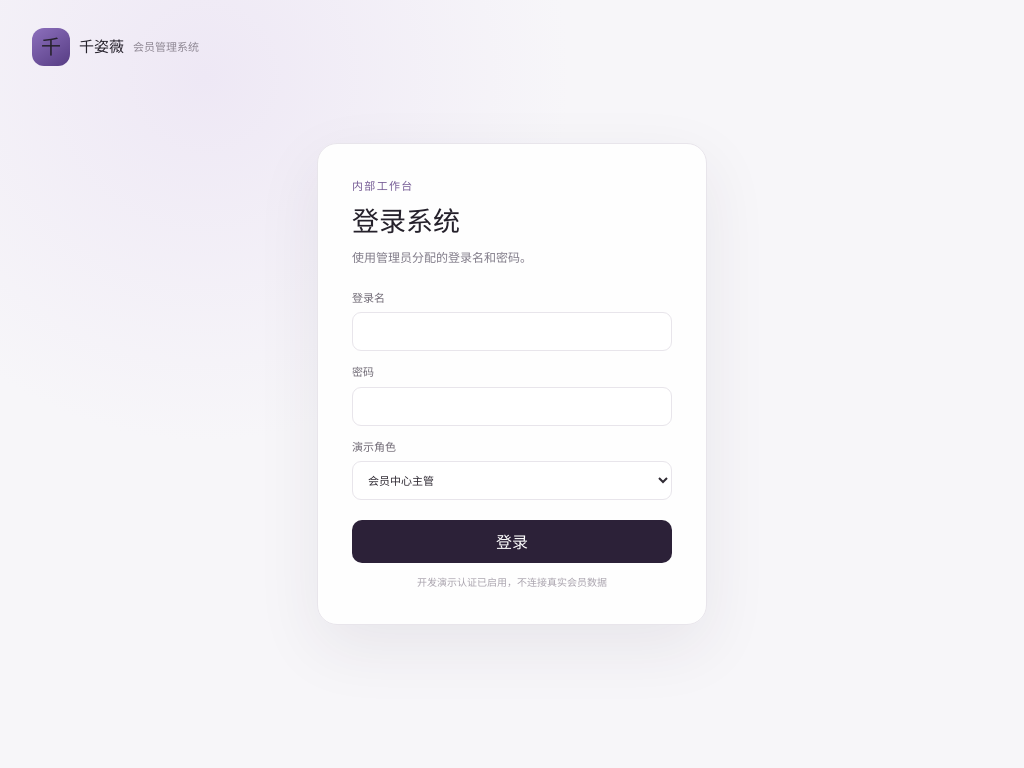
Test case: Dashboard › filters the member list by creation time
The width and height of the screenshot is (1024, 768).
Type "002" into the field labelled "登录名". click: (512, 332)
box: [352,312,672,351]
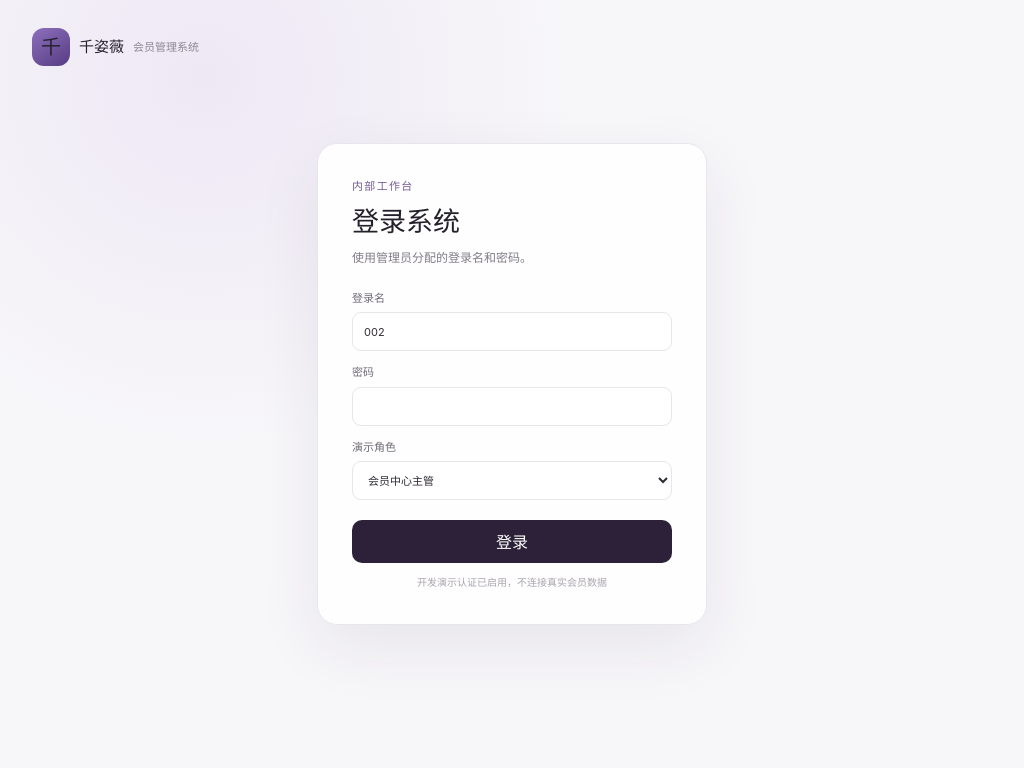
Type "Demo123!" into the password field labelled "密码". click: (512, 406)
box: [352,387,672,426]
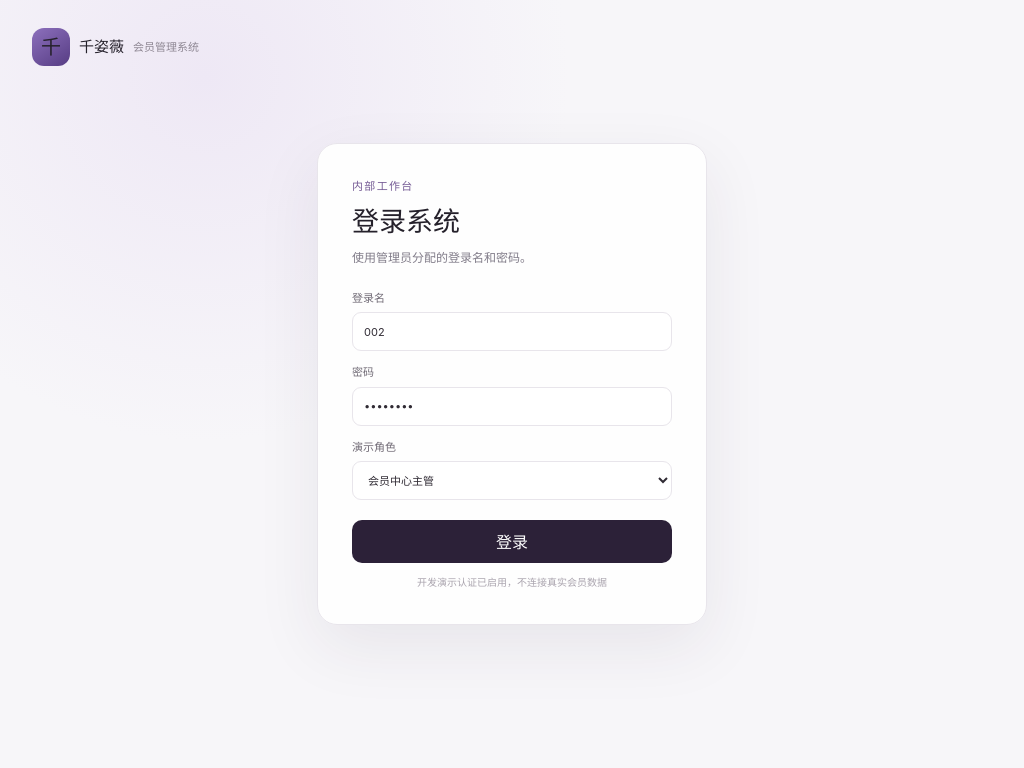
Select "管理层" in the dropdown labelled "演示角色". click: (512, 481)
box: [352,461,672,500]
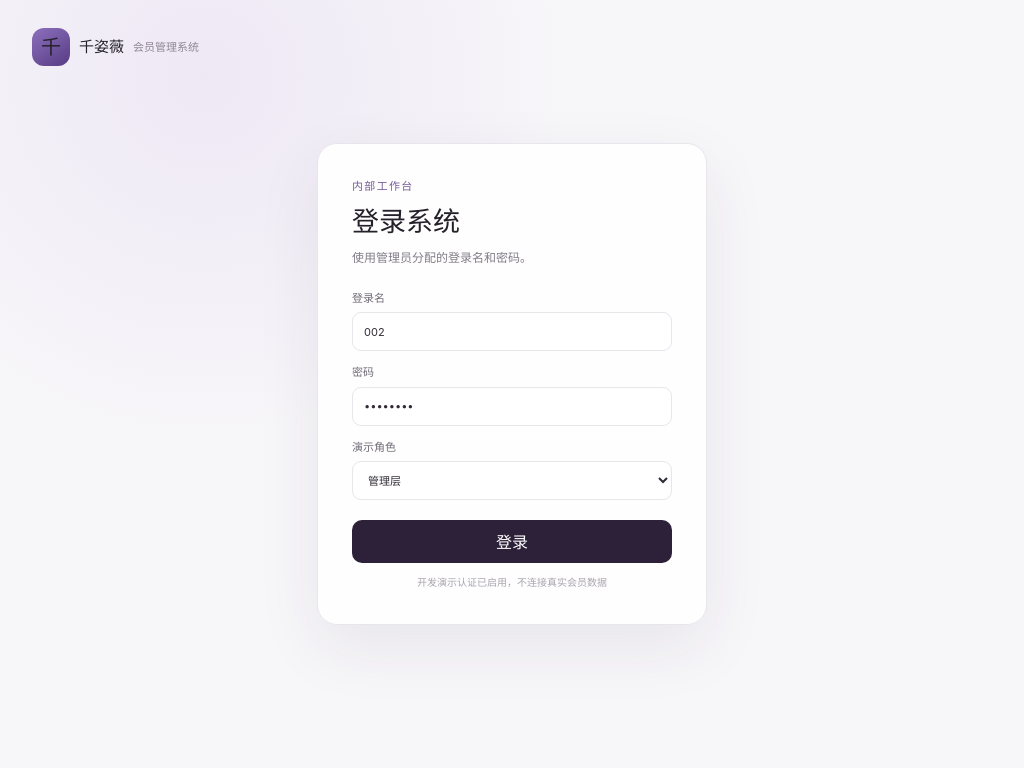
Click the button "登录". click: (512, 542)
box: [352,520,672,563]
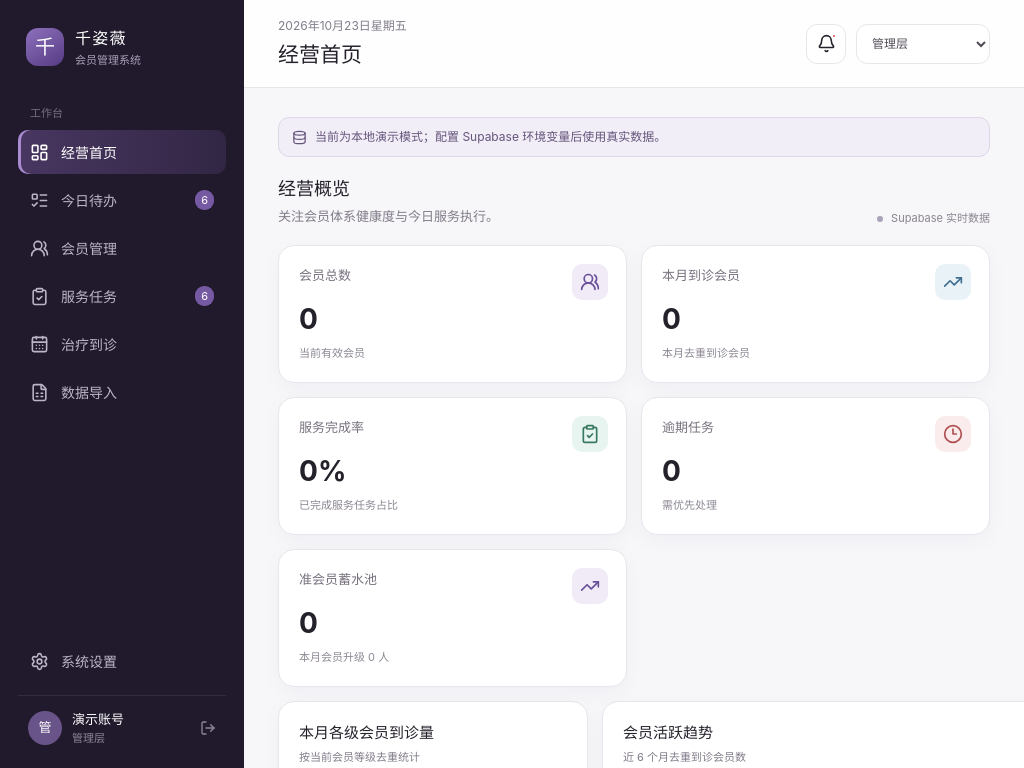
Click the button "会员管理". click: (122, 248)
box: [18,226,226,270]
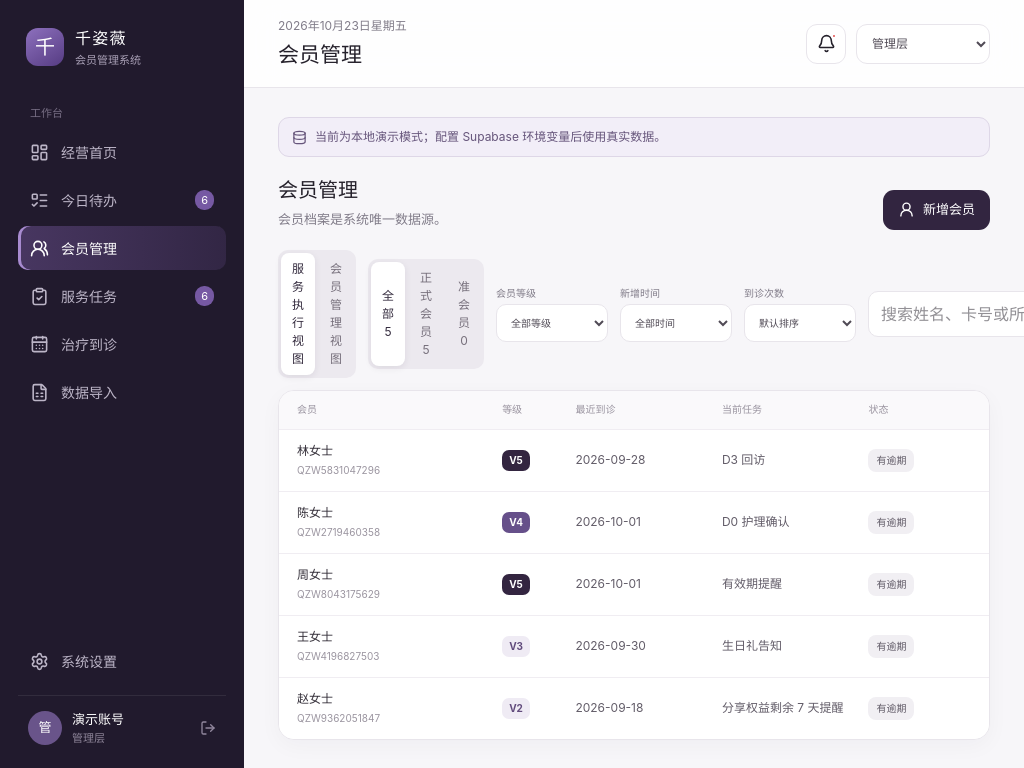
Select "近一月新增" in the dropdown named "按新增时间筛选". click: (676, 322)
box: [620,304,732,342]
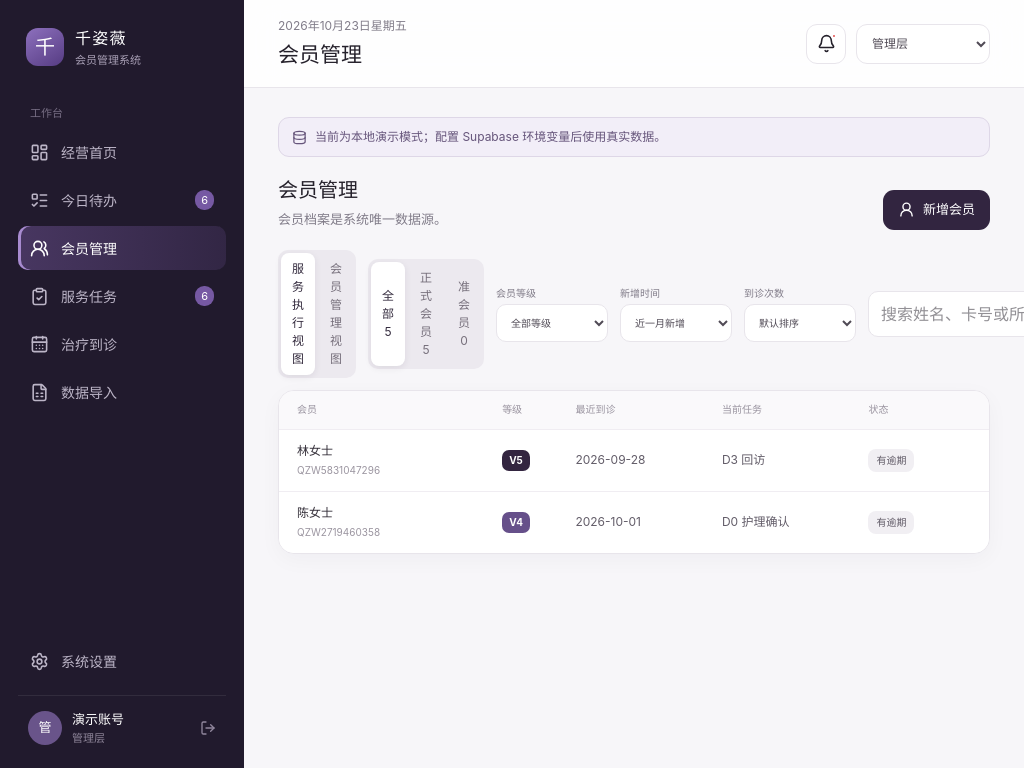
Now the text "林女士" is shown, box [297,443,333,458]
Now the text "陈女士" is shown, box [297,505,333,520]
Now the button "王女士" is gone
